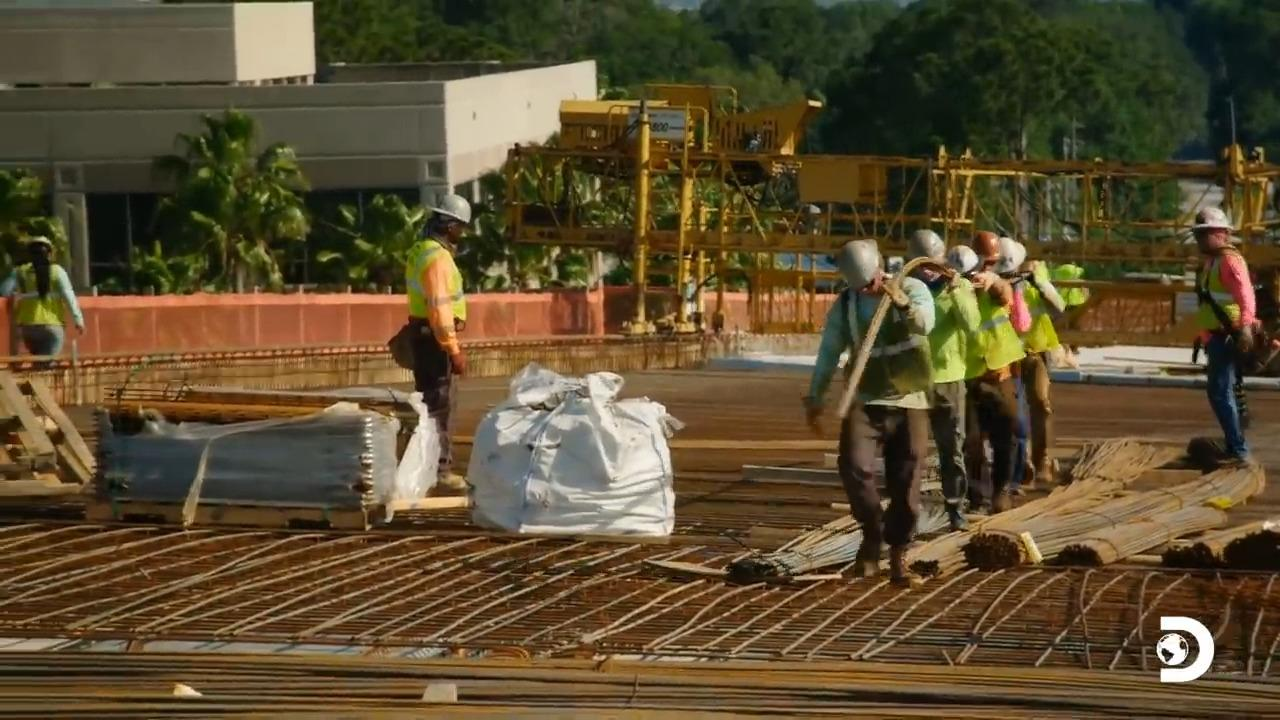Gloves: (427, 470, 472, 493), (448, 352, 467, 378), (1239, 324, 1254, 353)
Helmet: (834, 238, 881, 290), (965, 220, 1004, 266), (910, 228, 947, 265), (429, 193, 471, 224), (1190, 206, 1234, 232)
Person: (801, 238, 937, 586), (403, 193, 472, 492), (1189, 206, 1259, 468), (0, 235, 85, 368)
Safety Boot: (884, 551, 914, 587), (948, 503, 976, 535)
Safety Vest: (851, 303, 940, 397), (413, 246, 464, 325), (1201, 262, 1256, 326), (1016, 281, 1057, 355), (21, 262, 69, 320), (938, 279, 965, 377), (967, 302, 1009, 361)
